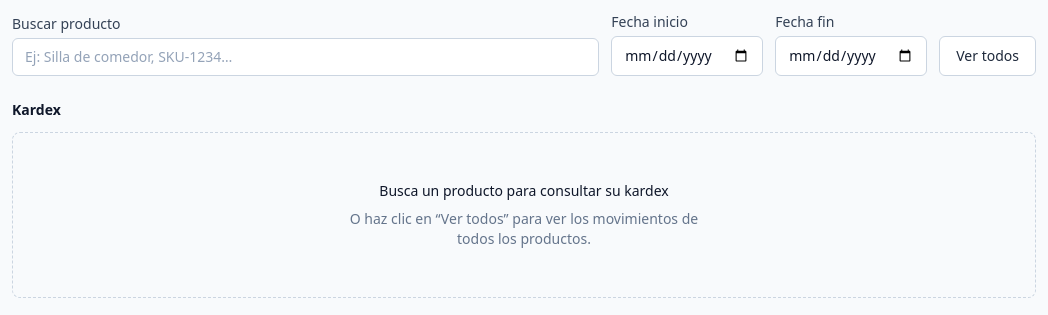
Test case: KardexExplorer › opens the picker as "Ver todos" the instant the search box is focused, with an empty query
Focus the field labelled "Buscar producto" at (306, 57), box [12, 38, 599, 76]
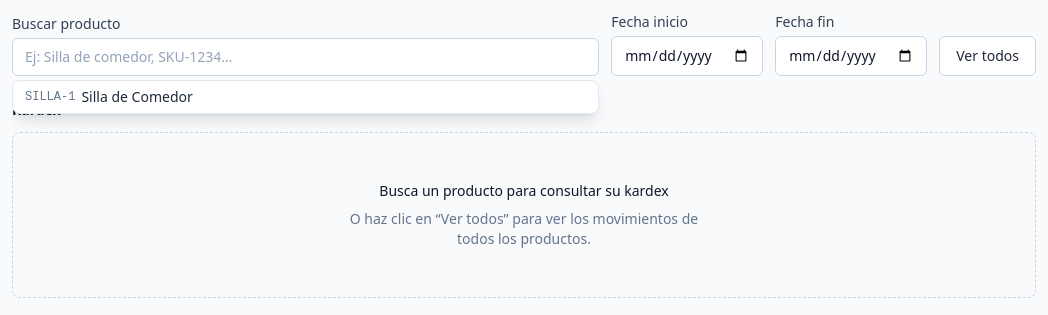
Expected: the text "Silla de Comedor" is shown, [81, 87, 193, 107]
